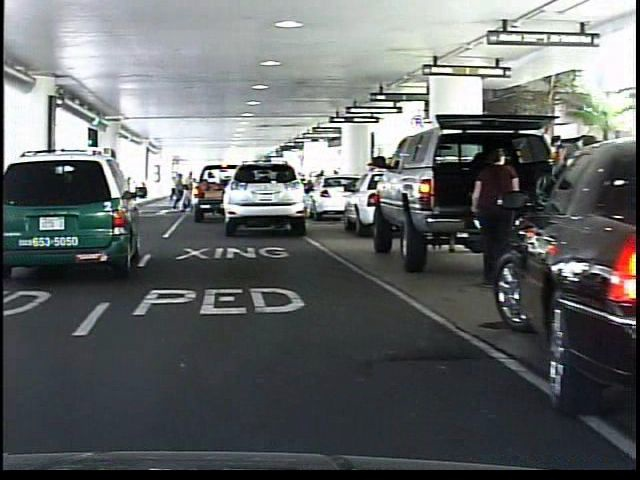person: (460, 147, 521, 283)
